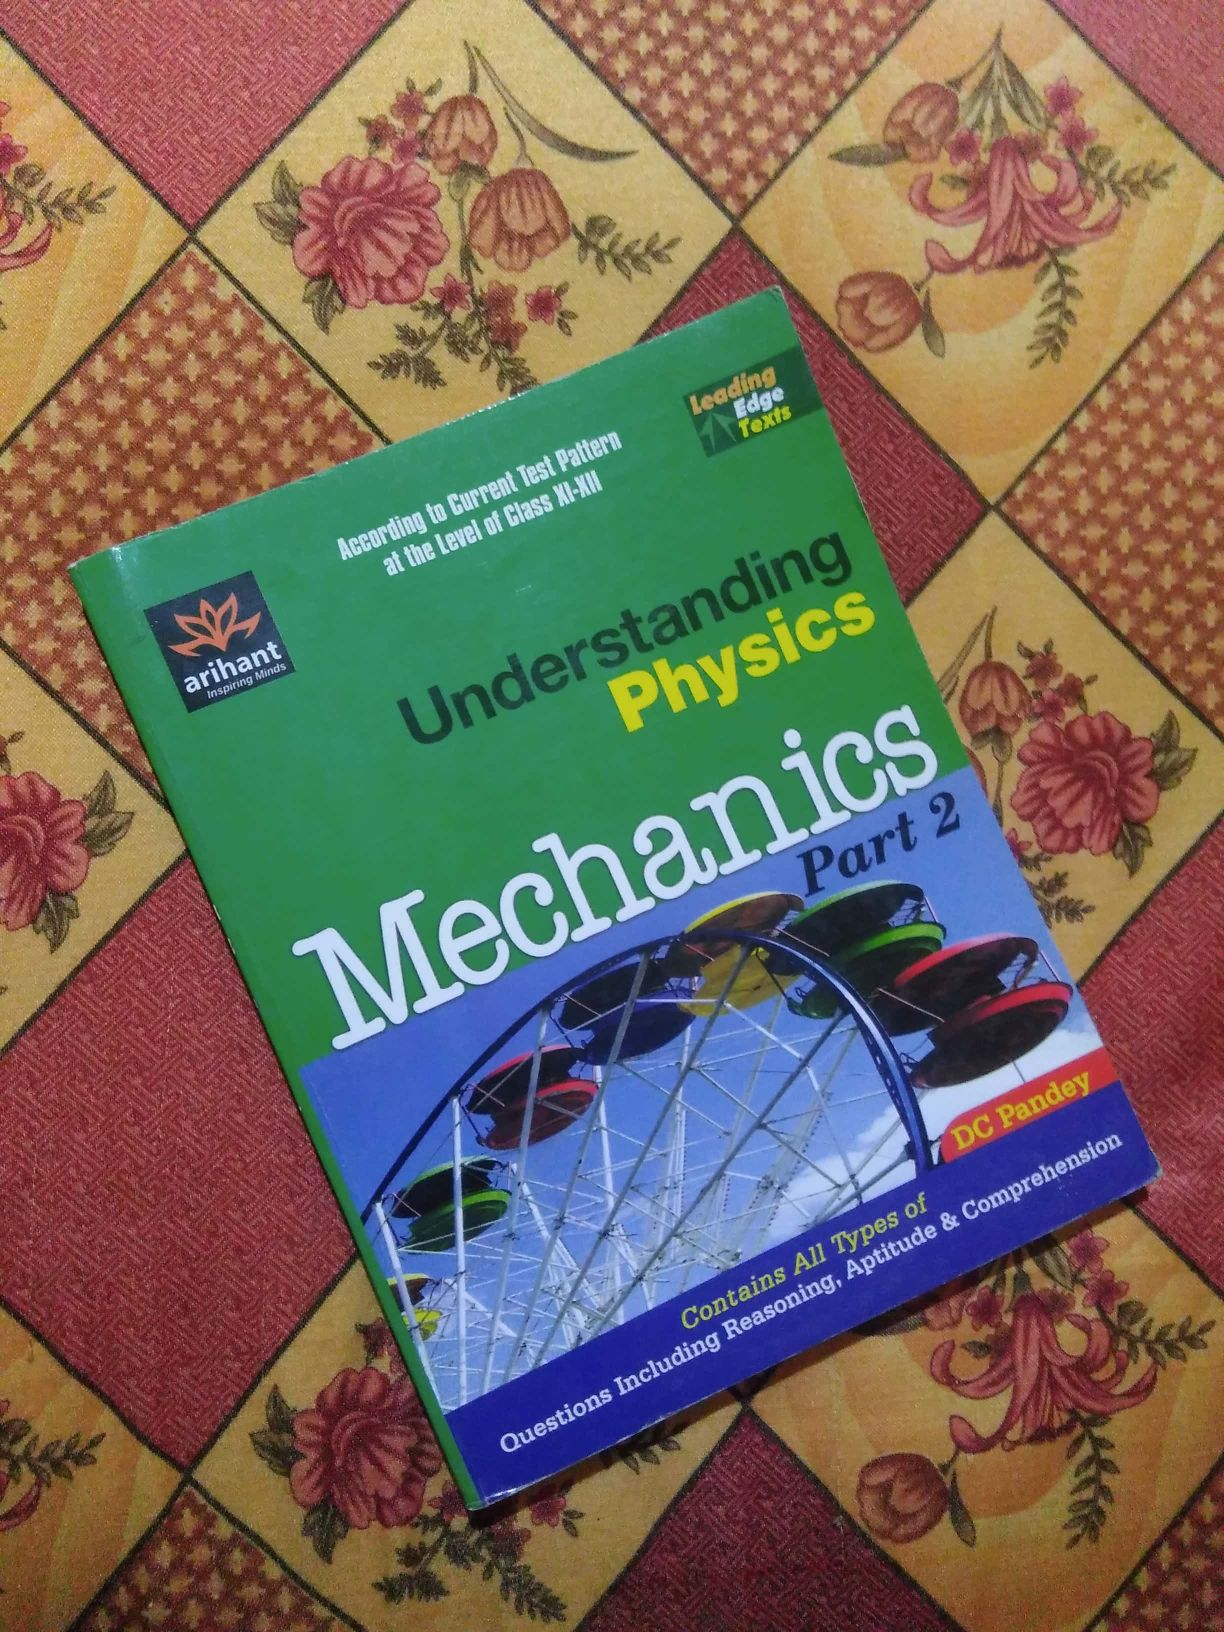mechanics: (54, 405, 1207, 1456)
